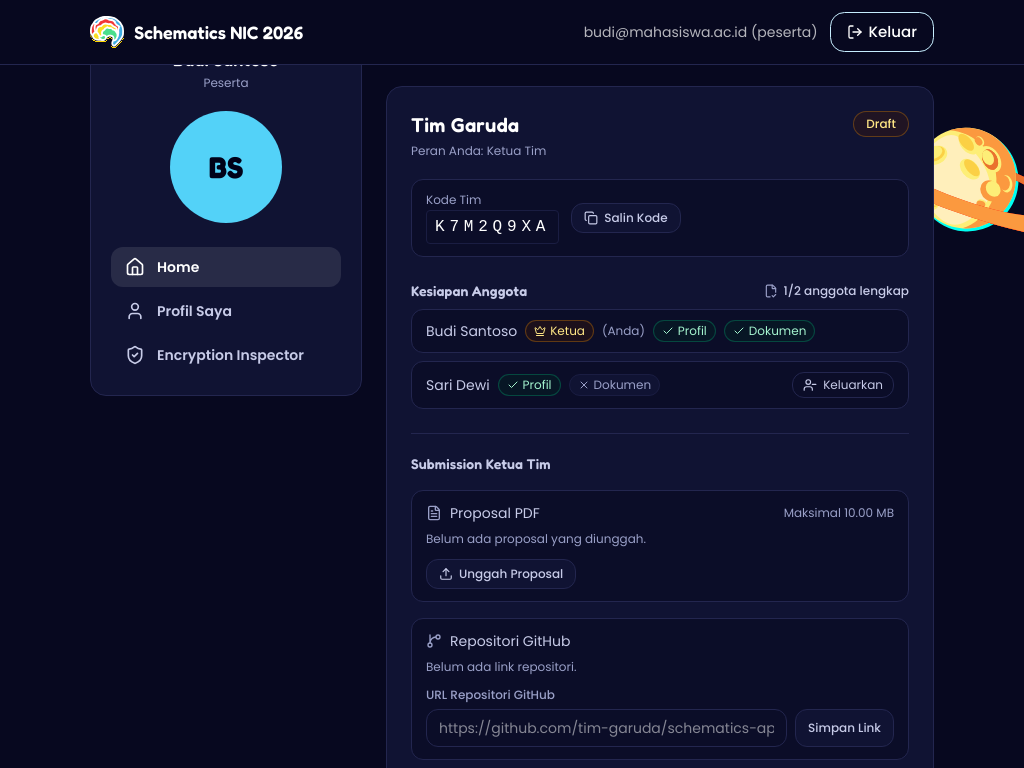
Scenario: Team & Submission Workspace › surfaces the API error message when removing a member fails
(page scrolled)
Click the button with aria-label "Keluarkan Sari Dewi" at point(843, 385), box 792,372 -> 894,398
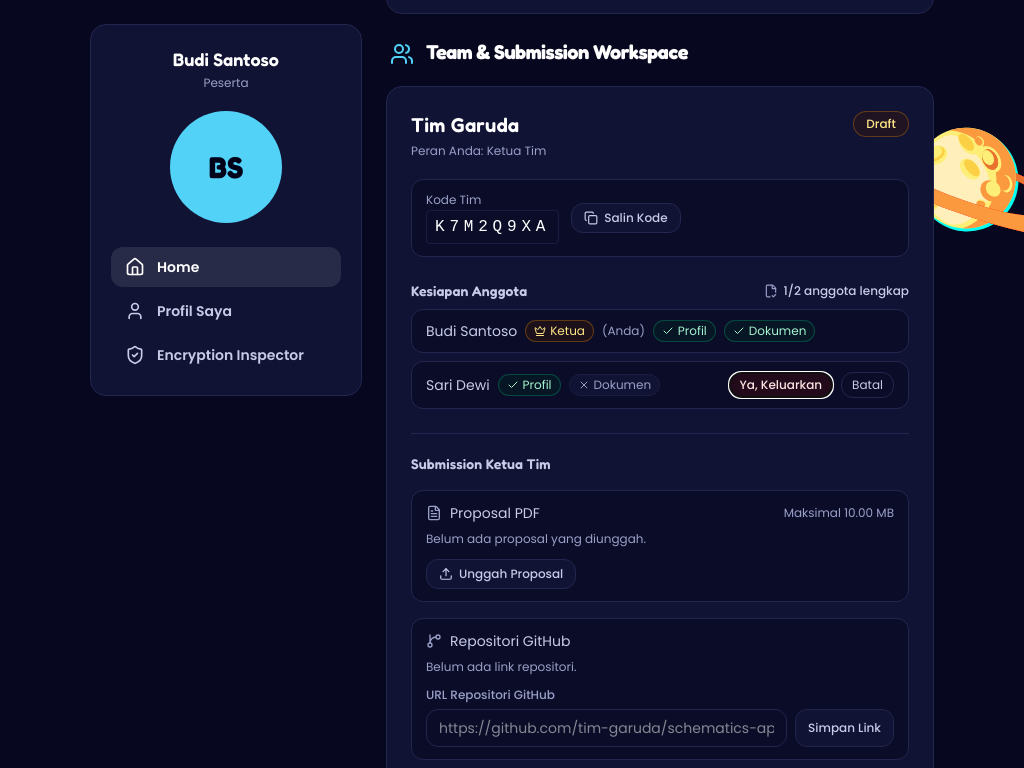
Click the button "Ya, Keluarkan" at point(781, 385), box 729,372 -> 833,398
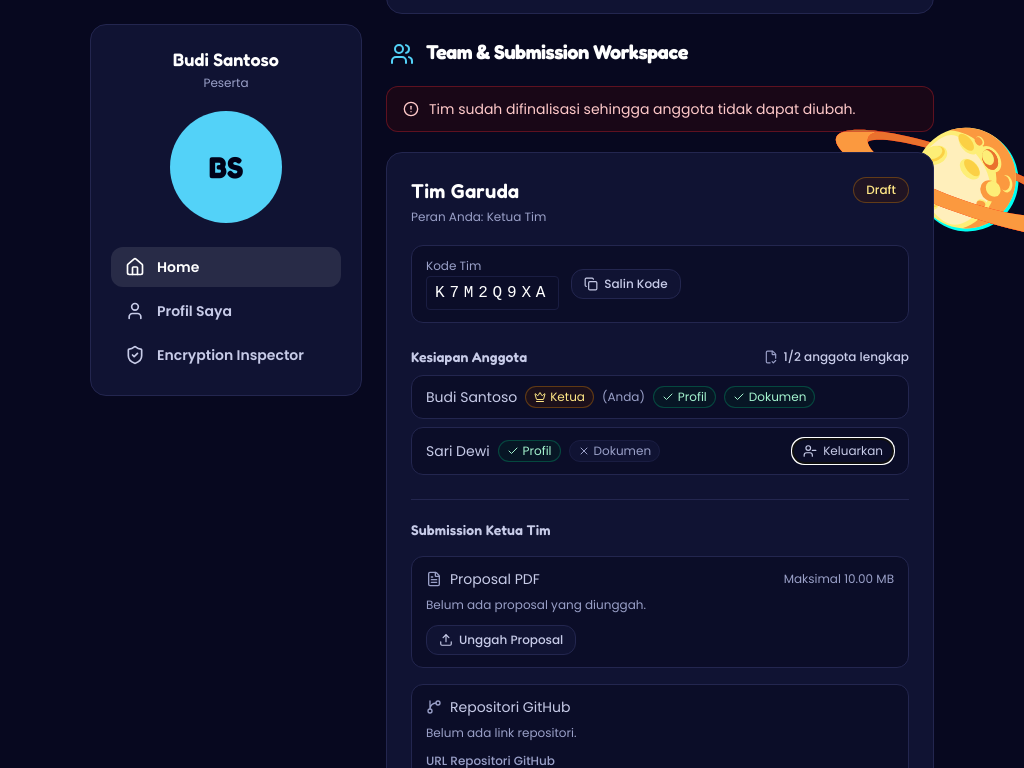
Check: the number of list items with test id "member-row" is 2, box 411,375 -> 909,419; 411,427 -> 909,475
Check: the element with test id "team-error-alert" shows "tidak dapat diubah", box 429,99 -> 856,119
